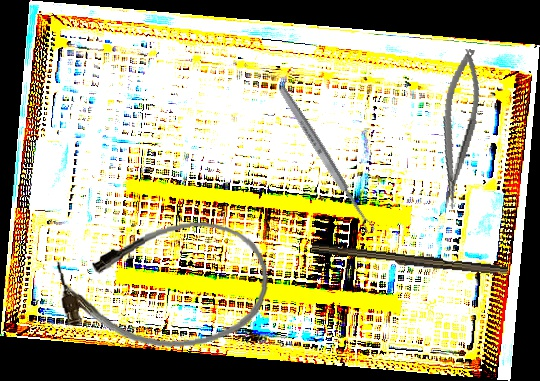Cannula: (53, 214, 275, 358)
Needle Holder: (426, 46, 490, 211)
Scalpel Handle: (310, 242, 509, 279)
Surgical Spoon: (276, 85, 377, 235)
